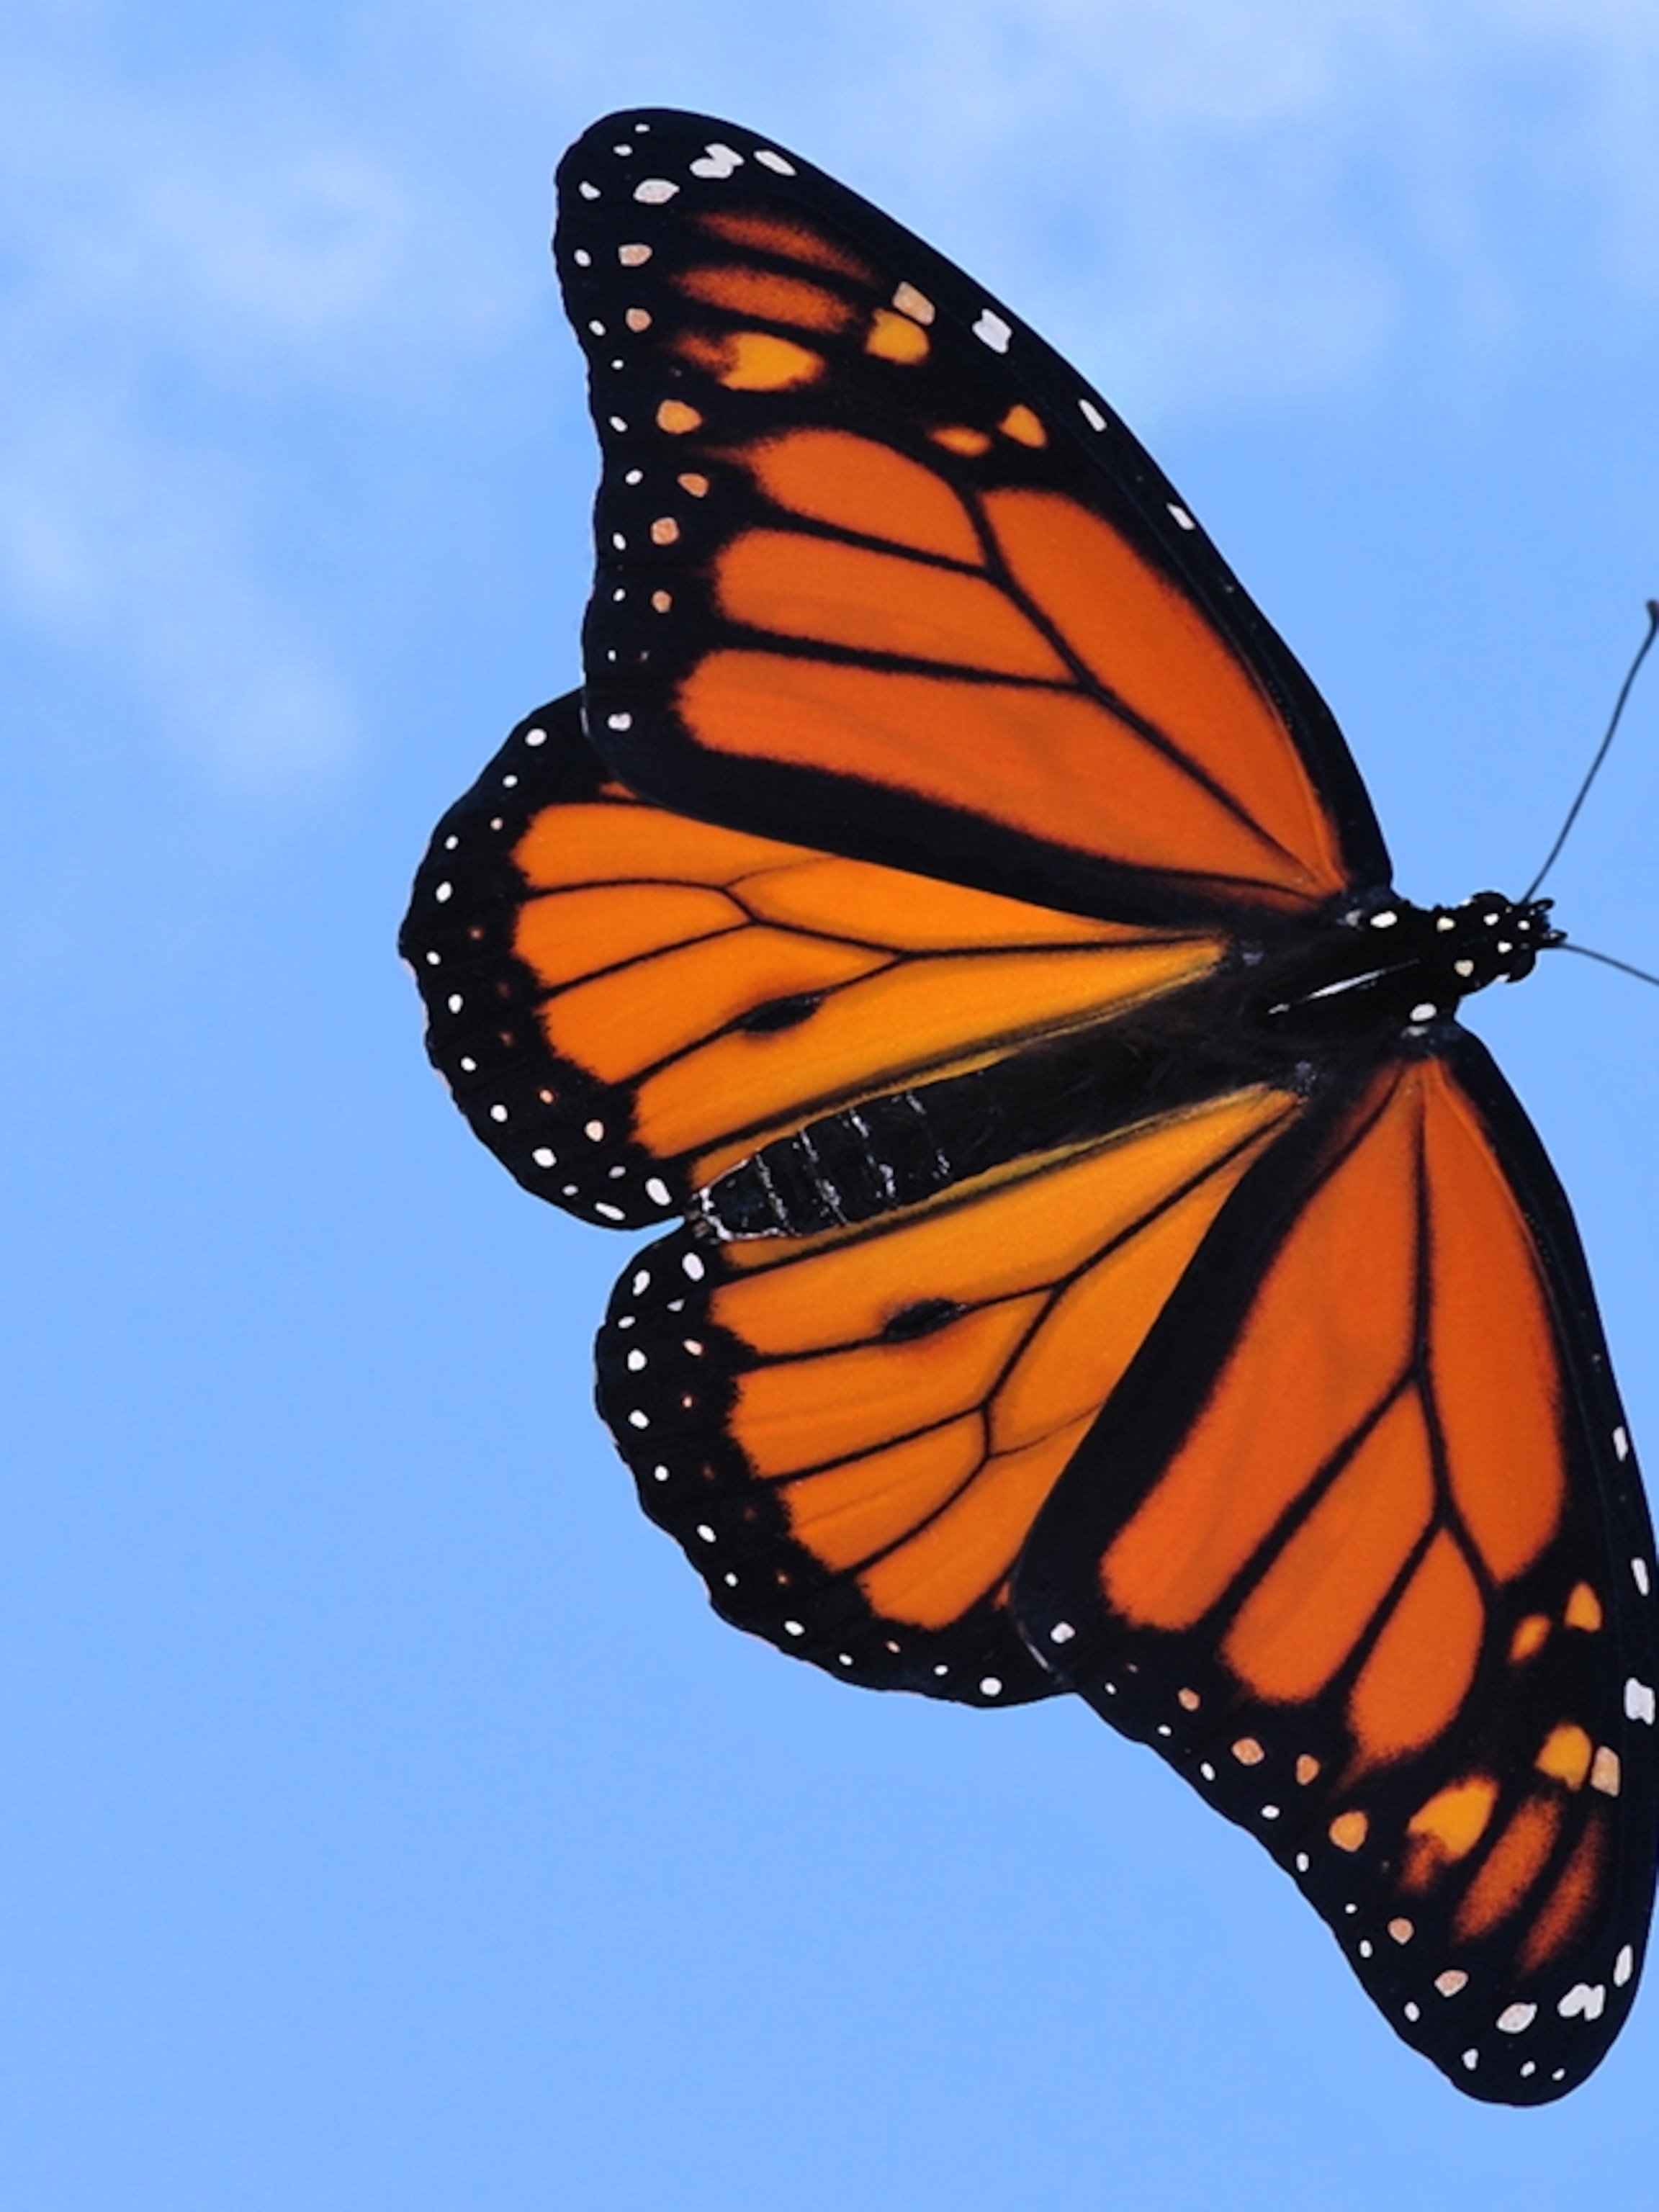Butterfly: (394, 106, 1659, 2097)
